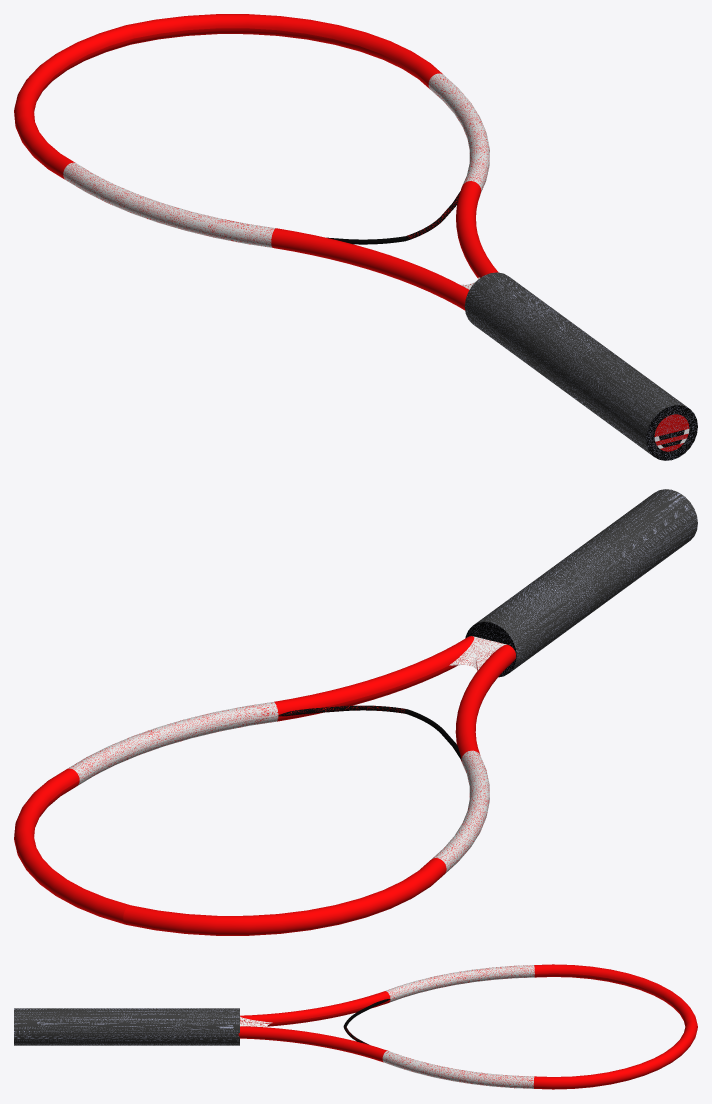
The model's file is tennis_racket_3d.dae.
3 renders of one model, top to bottom at view 1: azimuth 30°, elevation 25°; view 2: azimuth 150°, elevation 25°; view 3: azimuth 270°, elevation 25°, orthographic. The views are drawn at different scales.
Visible parts, largest first — view 1: SketchUp (×7); view 2: SketchUp (×9); view 3: SketchUp (×7).
Part boxes in pixels (bbox=[...]): SketchUp (×7): bbox=[14, 14, 697, 460]; SketchUp (×9): bbox=[14, 489, 697, 935]; SketchUp (×7): bbox=[14, 964, 697, 1089].
Size of the model in its own units: 11.11 by 27.25 by 1.49.
